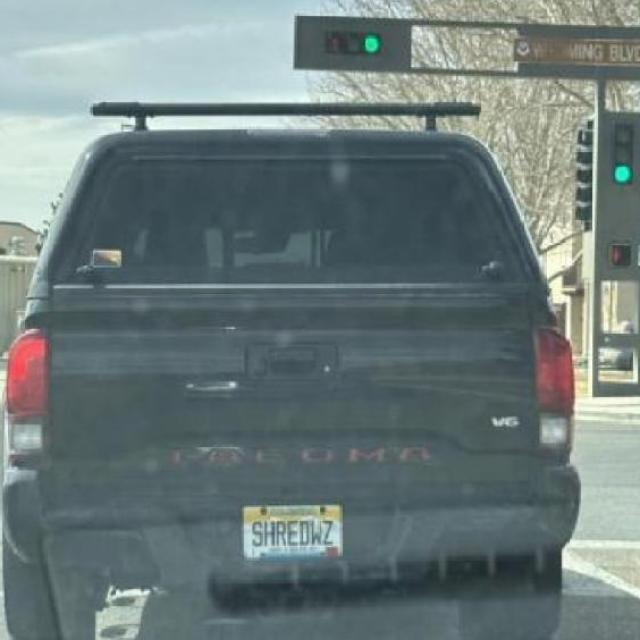license-plate: (247, 508, 351, 546)
